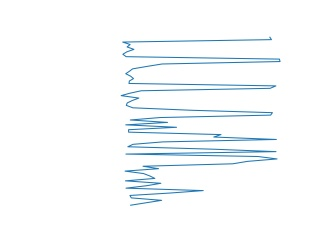crevasseRiverChannelBar: (120, 160, 282, 206)
majorRiverBedLagDeposit: (121, 119, 284, 165)
majorRiverChannelBar: (116, 35, 284, 116)
